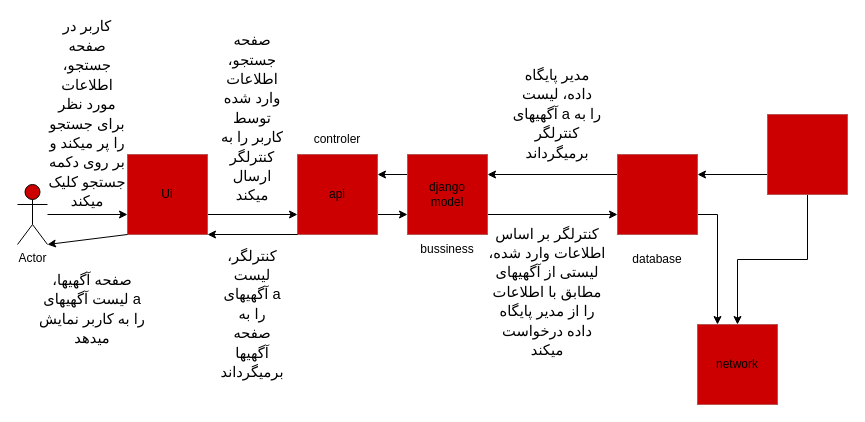
This 865x422 diagram has some shape labels left out. The centre of each missing label's shape, as x and y in pixels:
crawling system: point 807,154
database manager: point 657,194
